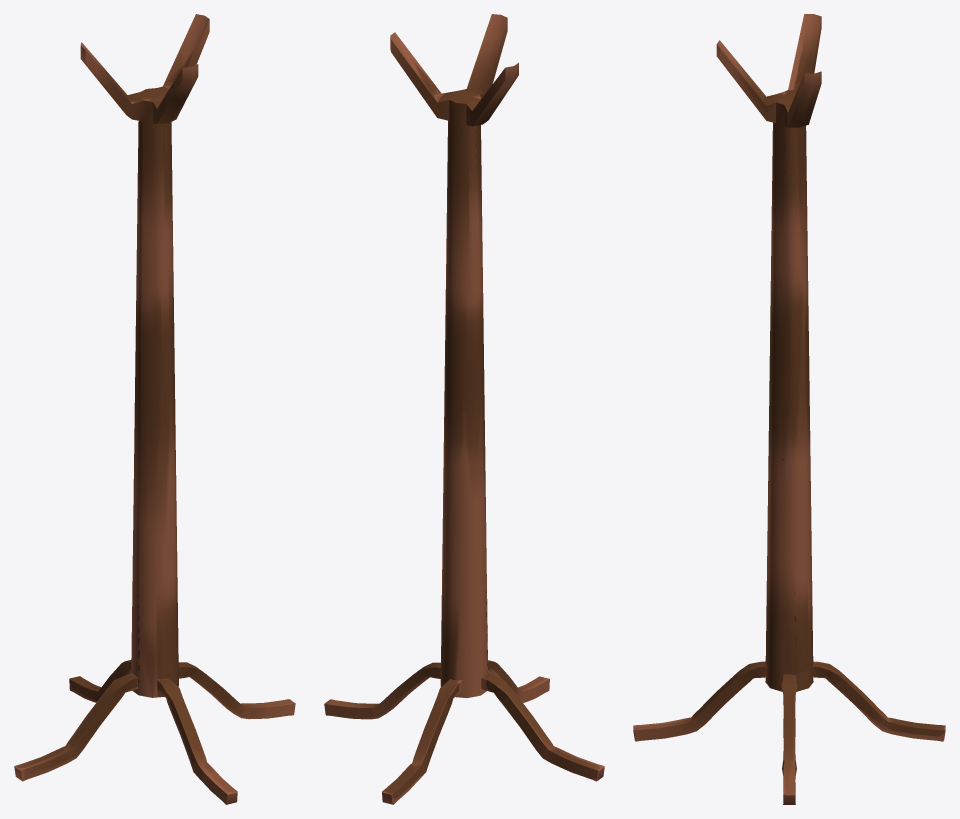
File: Dirty coat hanger.glb
The picture shows the model from 3 angles, left to right: view 1: azimuth 30°, elevation 25°; view 2: azimuth 150°, elevation 25°; view 3: azimuth 270°, elevation 25°; orthographic projection.
Visible parts, largest first — view 1: Cylinder.001; view 2: Cylinder.001; view 3: Cylinder.001.
Part boxes in pixels (x1,y1,x2,y2): Cylinder.001: (14, 14, 295, 804); Cylinder.001: (324, 14, 604, 804); Cylinder.001: (633, 14, 945, 804).
Bounding box in the file's own units: 0.5764 × 1.41 × 0.5745.
1 material, 1 textured.
